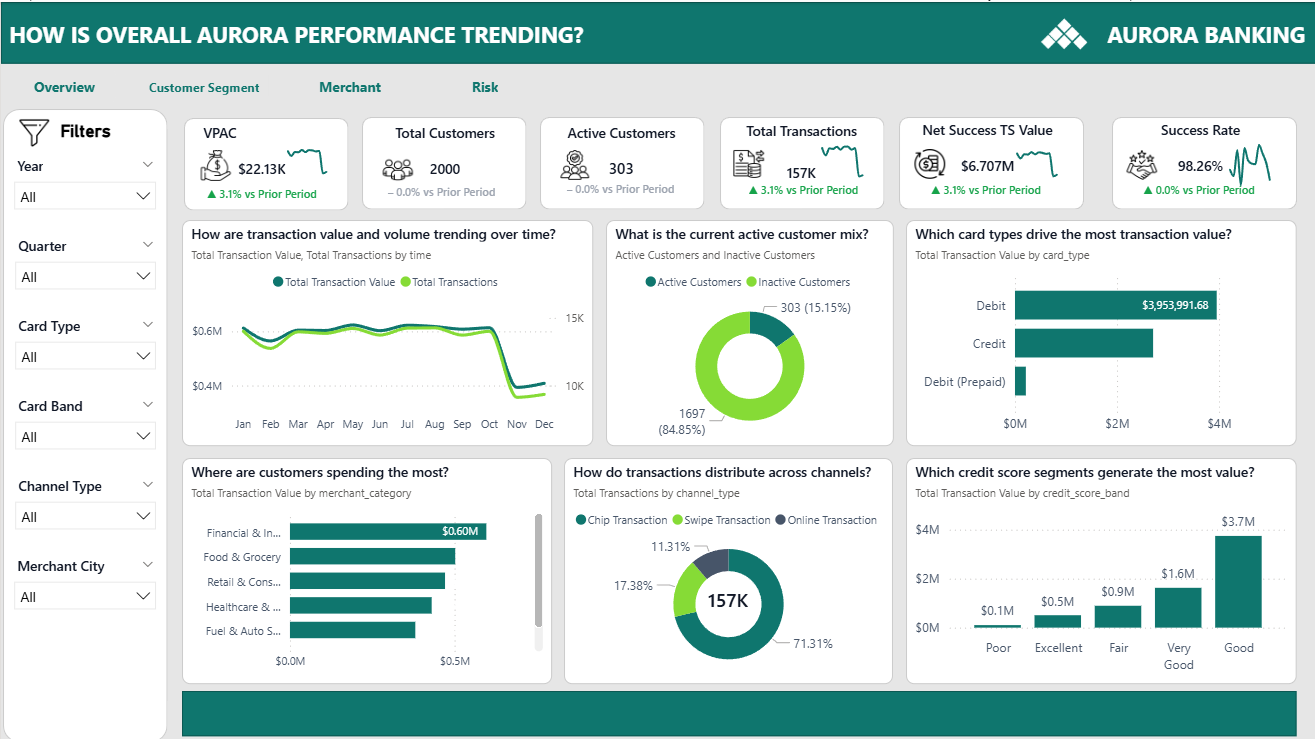

What the dashboard file says about the page in this screenshot:
{"tool":"powerbi","page":{"name":"Overview","canvas":[1280,720],"ordinal":0},"visuals":[{"type":"actionButton","title":"btn_campaign","box":[171.8,64.6,163.5,34.6],"z":0,"group":"g1"},{"type":"shape","box":[1.8,103.6,160,616],"z":0,"group":"g2"},{"type":"shape","box":[1080,111.8,180,90],"z":0,"group":"g8"},{"type":"shape","box":[351.3,112,160,90],"z":0,"group":"g4"},{"type":"shape","box":[524.8,112,160,90],"z":0,"group":"g5"},{"type":"shape","box":[698.4,112,160,90],"z":0,"group":"g6"},{"type":"shape","box":[873.4,112,180,90],"z":0,"group":"g7"},{"type":"shape","box":[178,112.7,160,90],"z":0,"group":"g3"},{"type":"donutChart","title":"How do transactions distribute across channels?","fields":{"Y":["_mesure.Total Transactions"],"Category":["fact_transactions.channel_type"]},"box":[548,444,320,220],"z":0},{"type":"actionButton","title":"btn_overview","box":[11.3,64.6,130.8,35],"z":1000,"group":"g1"},{"type":"lineChart","fields":{"Category":["dim_date.month"],"Y":["_mesure.VPAC"]},"box":[260.7,114.8,80.9,66.4],"z":1000,"group":"g3"},{"type":"cardVisual","title":"Success Rate","fields":{"Data":["_mesure.Transaction Success Rate"]},"box":[1097.4,115.4,139.1,77.3],"z":1000,"group":"g8"},{"type":"cardVisual","title":"Net Success TS Value","fields":{"Data":["_mesure.Net Successful Transaction Value"]},"box":[890.8,115.6,139.1,77.3],"z":1000,"group":"g7"},{"type":"cardVisual","title":"Total Transactions","fields":{"Data":["_mesure.Total Transactions"]},"box":[715.9,116.5,125.5,78.2],"z":1000,"group":"g6"},{"type":"cardVisual","title":"Total Customers","fields":{"Data":["_mesure.Total Customers"]},"box":[378.9,119.3,107.3,77.3],"z":1000,"group":"g4"},{"type":"cardVisual","title":"Active Customers","fields":{"Data":["_mesure.Active Customers"]},"box":[540.8,119.3,125.5,77.3],"z":1000,"group":"g5"},{"type":"slicer","fields":{"Values":["dim_date.date.Variation.Date Hierarchy.Year"]},"box":[8,150.6,148,61],"z":1000,"group":"g2"},{"type":"actionButton","title":"btn_insight","box":[706.8,63,130,35],"z":1500,"group":"g1"},{"type":"actionButton","title":"btn_customer","box":[534.6,64.6,142.6,34.6],"z":2000,"group":"g1"},{"type":"textbox","box":[14.7,109.4,135.5,33.6],"z":2000,"group":"g2"},{"type":"cardVisual","title":"VPAC","fields":{"Data":["_mesure.VPAC"]},"box":[191.6,118.4,124.5,80],"z":2000,"group":"g3"},{"type":"cardVisual","title":"VPAC","fields":{"Data":["_mesure.Success Rate Change Label"]},"box":[1075.5,151.8,180,58.2],"z":2000,"group":"g8"},{"type":"cardVisual","title":"VPAC","fields":{"Data":["_mesure.Net Successful Transactions Value Change Label"]},"box":[868.9,152,180,58.2],"z":2000,"group":"g7"},{"type":"cardVisual","title":"VPAC","fields":{"Data":["_mesure.Active Customers Change Label"]},"box":[521.7,155.6,165.5,50],"z":2000,"group":"g5"},{"type":"cardVisual","title":"VPAC","fields":{"Data":["_mesure.Total Transactions Change Label"]},"box":[695,156.5,170,50],"z":2000,"group":"g6"},{"type":"cardVisual","title":"VPAC","fields":{"Data":["_mesure.Total Customers Change Label"]},"box":[347.5,158.4,164.5,48.2],"z":2000,"group":"g4"},{"type":"columnChart","title":"Which credit score segments generate the most value?","fields":{"Y":["_mesure.Total Transaction Value"],"Category":["customer_churn_base.credit_score_band"]},"box":[880,444,380,220],"z":2000},{"type":"actionButton","title":"btn_product ","box":[364.9,64.6,139.9,34.6],"z":3000,"group":"g1"},{"type":"lineChart","fields":{"Category":["dim_date.month"],"Y":["_mesure.Total Transactions"]},"box":[779.5,116.5,83.6,65.5],"z":3000,"group":"g6"},{"type":"lineChart","fields":{"Category":["dim_date.month"],"Y":["_mesure.Transaction Success Rate"]},"box":[1176.5,122.7,82.7,61.8],"z":3000,"group":"g8"},{"type":"lineChart","fields":{"Category":["dim_date.month"],"Y":["_mesure.Net Successful Transaction Value"]},"box":[969.9,122.9,82.7,61.8],"z":3000,"group":"g7"},{"type":"cardVisual","title":"VPAC","fields":{"Data":["_mesure.VPAC Change Label"]},"box":[168,158.4,171.8,52.7],"z":3000,"group":"g3"},{"type":"slicer","fields":{"Values":["dim_card.card_type"]},"box":[8.4,305.9,147.3,60.9],"z":3000,"group":"g2"},{"type":"image","box":[178.8,143.4,60,30],"z":3500,"group":"g3"},{"type":"donutChart","title":"What is the current active customer mix?","fields":{"Y":["_mesure.Active Customers","_mesure.Inactive Customers"]},"box":[588,212,280,220],"z":4000},{"type":"slicer","fields":{"Values":["dim_card.card_brand"]},"box":[8.4,383.5,147.3,60.9],"z":4000,"group":"g2"},{"type":"barChart","title":"Where are customers spending the most?","fields":{"Y":["_mesure.Total Transaction Value"],"Category":["dim_mcc.merchant_category"]},"box":[176,444,360,220],"z":5000},{"type":"slicer","fields":{"Values":["fact_transactions.channel_type"]},"box":[8.4,461.1,147.3,61.8],"z":5000,"group":"g2"},{"type":"slicer","fields":{"Values":["dim_date.date.Variation.Date Hierarchy.Quarter"]},"box":[8.4,228.3,147.3,60.9],"z":6000,"group":"g2"},{"type":"lineChart","title":"How are transaction value and volume trending over time?","fields":{"Category":["dim_date.quarter_label","dim_date.month_short"],"Y":["_mesure.Total Transaction Value"],"Y2":["_mesure.Total Transactions"]},"box":[176,212,400,220],"z":7000},{"type":"slicer","fields":{"Values":["dim_merchant.merchant_city"]},"box":[8,539.6,148,61],"z":7000,"group":"g2"},{"type":"clusteredBarChart","title":"Which card types drive the most transaction value?","fields":{"Y":["_mesure.Total Transaction Value"],"Category":["dim_card.card_type"]},"box":[880,212,380,220],"z":8000},{"type":"cardVisual","title":"Transaction Quality by Channel","fields":{"Data":["_mesure.Total Transactions"]},"box":[649.1,540,117.3,80.9],"z":9000},{"type":"shape","box":[0,0,1280,60],"z":10000},{"type":"textbox","box":[1070.7,11.6,208.3,39.6],"z":11000,"group":"g9"},{"type":"shape","box":[176,670,1084,44],"z":11000},{"type":"group","id":"g1","title":"Group 1","box":[11.3,63,825.5,36.6],"z":13000},{"type":"group","id":"g2","title":"Filter page","box":[1.8,103.6,160,616],"z":14000},{"type":"group","id":"g3","title":"kpi VPAC","box":[168,112.7,173.6,98.4],"z":15000},{"type":"group","id":"g4","title":"kpi total cus","box":[347.5,112,164.5,94.5],"z":16000},{"type":"group","id":"g5","title":"kpi active","box":[521.7,112,165.5,93.6],"z":17000},{"type":"group","id":"g6","title":"kpi txs ","box":[695,112,170,94.5],"z":18000},{"type":"group","id":"g7","title":"kpi net txs","box":[868.9,112,184.5,98.2],"z":19000},{"type":"group","id":"g8","title":"kpi txs rate","box":[1075.5,111.8,184.5,98.2],"z":20000},{"type":"image","box":[355.6,148.3,59.9,29.5],"z":21000},{"type":"image","box":[1000.9,0,68.1,63.2],"z":21007,"group":"g9"},{"type":"image","box":[528.5,144.4,59.9,29.5],"z":22000},{"type":"image","box":[697.5,143.4,59.9,29.5],"z":23000},{"type":"image","box":[873.3,143.4,59.9,29.5],"z":24000},{"type":"image","box":[1079.6,144.4,59.9,29.5],"z":25000},{"type":"image","box":[2.7,112.7,59.1,29.1],"z":26000},{"type":"textbox","box":[2.9,11.7,622.5,60.3],"z":27000},{"type":"group","id":"g9","title":"Group 2","box":[1000.9,0,278.2,63.2],"z":28000}]}

Visuals, with their boxes in screenshot pixels (x1, y1, x2, y2), scaled from the page's 1280x720 canvas onto the 1315x739 screenshot:
"btn_campaign" actionButton: Rect(176, 66, 344, 102)
shape: Rect(2, 106, 166, 738)
shape: Rect(1110, 115, 1294, 207)
shape: Rect(361, 115, 525, 207)
shape: Rect(539, 115, 704, 207)
shape: Rect(717, 115, 882, 207)
shape: Rect(897, 115, 1082, 207)
shape: Rect(183, 116, 347, 208)
"How do transactions distribute across channels?" donutChart: Rect(563, 456, 892, 682)
"btn_overview" actionButton: Rect(12, 66, 146, 102)
lineChart - dim_date.month x _mesure.VPAC: Rect(268, 118, 351, 186)
"Success Rate" cardVisual: Rect(1127, 118, 1270, 198)
"Net Success TS Value" cardVisual: Rect(915, 119, 1058, 198)
"Total Transactions" cardVisual: Rect(735, 120, 864, 200)
"Total Customers" cardVisual: Rect(389, 122, 499, 202)
"Active Customers" cardVisual: Rect(556, 122, 685, 202)
slicer - dim_date.date.Variation.Date Hierarchy.Year: Rect(8, 155, 160, 217)
"btn_insight" actionButton: Rect(726, 65, 860, 101)
"btn_customer" actionButton: Rect(549, 66, 696, 102)
textbox: Rect(15, 112, 154, 147)
"VPAC" cardVisual: Rect(197, 122, 325, 204)
"VPAC" cardVisual: Rect(1105, 156, 1290, 216)
"VPAC" cardVisual: Rect(893, 156, 1078, 216)
"VPAC" cardVisual: Rect(536, 160, 706, 211)
"VPAC" cardVisual: Rect(714, 161, 889, 212)
"VPAC" cardVisual: Rect(357, 163, 526, 212)
"Which credit score segments generate the most value?" columnChart: Rect(904, 456, 1294, 682)
"btn_product " actionButton: Rect(375, 66, 519, 102)
lineChart - dim_date.month x _mesure.Total Transactions: Rect(801, 120, 887, 187)
lineChart - dim_date.month x _mesure.Transaction Success Rate: Rect(1209, 126, 1294, 189)
lineChart - dim_date.month x _mesure.Net Successful Transaction Value: Rect(996, 126, 1081, 190)
"VPAC" cardVisual: Rect(173, 163, 349, 217)
slicer - dim_card.card_type: Rect(9, 314, 160, 376)
image: Rect(184, 147, 245, 178)
"What is the current active customer mix?" donutChart: Rect(604, 218, 892, 443)
slicer - dim_card.card_brand: Rect(9, 394, 160, 456)
"Where are customers spending the most?" barChart: Rect(181, 456, 551, 682)
slicer - fact_transactions.channel_type: Rect(9, 473, 160, 537)
slicer - dim_date.date.Variation.Date Hierarchy.Quarter: Rect(9, 234, 160, 297)
"How are transaction value and volume trending over time?" lineChart: Rect(181, 218, 592, 443)
slicer - dim_merchant.merchant_city: Rect(8, 554, 160, 616)
"Which card types drive the most transaction value?" clusteredBarChart: Rect(904, 218, 1294, 443)
"Transaction Quality by Channel" cardVisual: Rect(667, 554, 787, 637)
shape: Rect(0, 0, 1314, 62)
textbox: Rect(1100, 12, 1314, 53)
shape: Rect(181, 688, 1294, 733)
"Group 1" group: Rect(12, 65, 860, 102)
"Filter page" group: Rect(2, 106, 166, 738)
"kpi VPAC" group: Rect(173, 116, 351, 217)
"kpi total cus" group: Rect(357, 115, 526, 212)
"kpi active" group: Rect(536, 115, 706, 211)
"kpi txs " group: Rect(714, 115, 889, 212)
"kpi net txs" group: Rect(893, 115, 1082, 216)
"kpi txs rate" group: Rect(1105, 115, 1294, 216)
image: Rect(365, 152, 427, 182)
image: Rect(1028, 0, 1098, 65)
image: Rect(543, 148, 604, 178)
image: Rect(717, 147, 778, 177)
image: Rect(897, 147, 959, 177)
image: Rect(1109, 148, 1171, 178)
image: Rect(3, 116, 63, 146)
textbox: Rect(3, 12, 643, 74)
"Group 2" group: Rect(1028, 0, 1314, 65)
